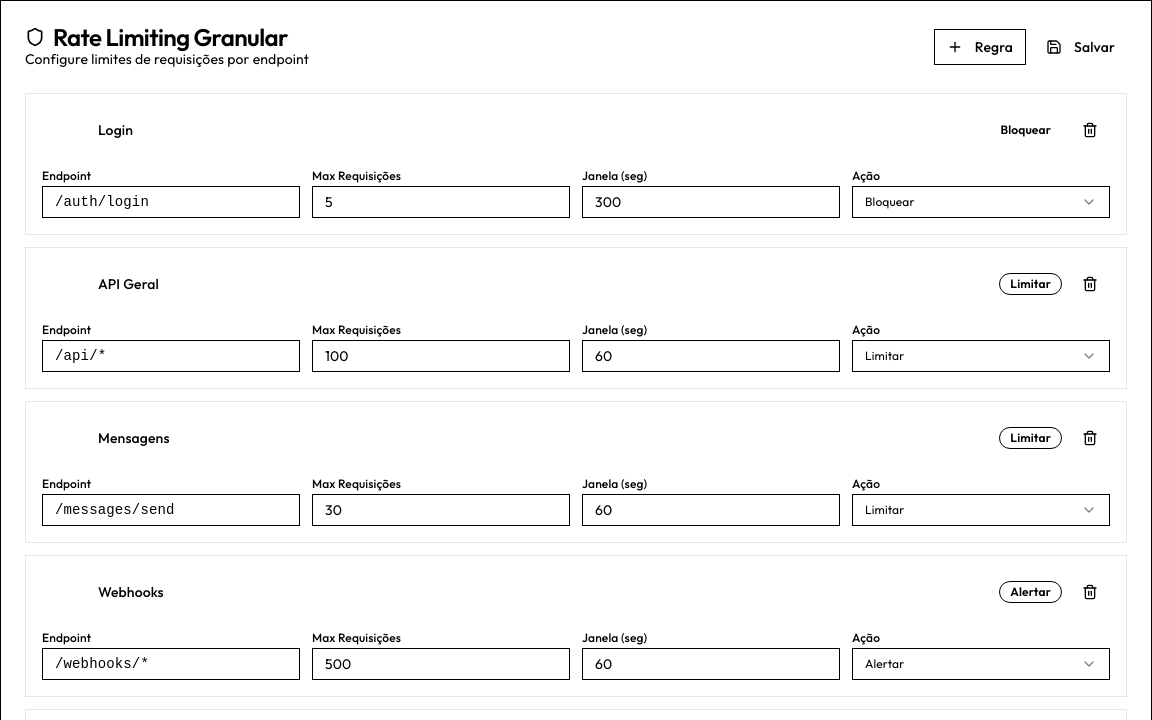
Test: RateLimitConfigPanel › Edge cases › handles NaN input for window_seconds
Expected: the 1st field showing "Login" is shown, [98,116,301,144]
Clear the 2nd number field at [711, 202], box [582,186,840,218]
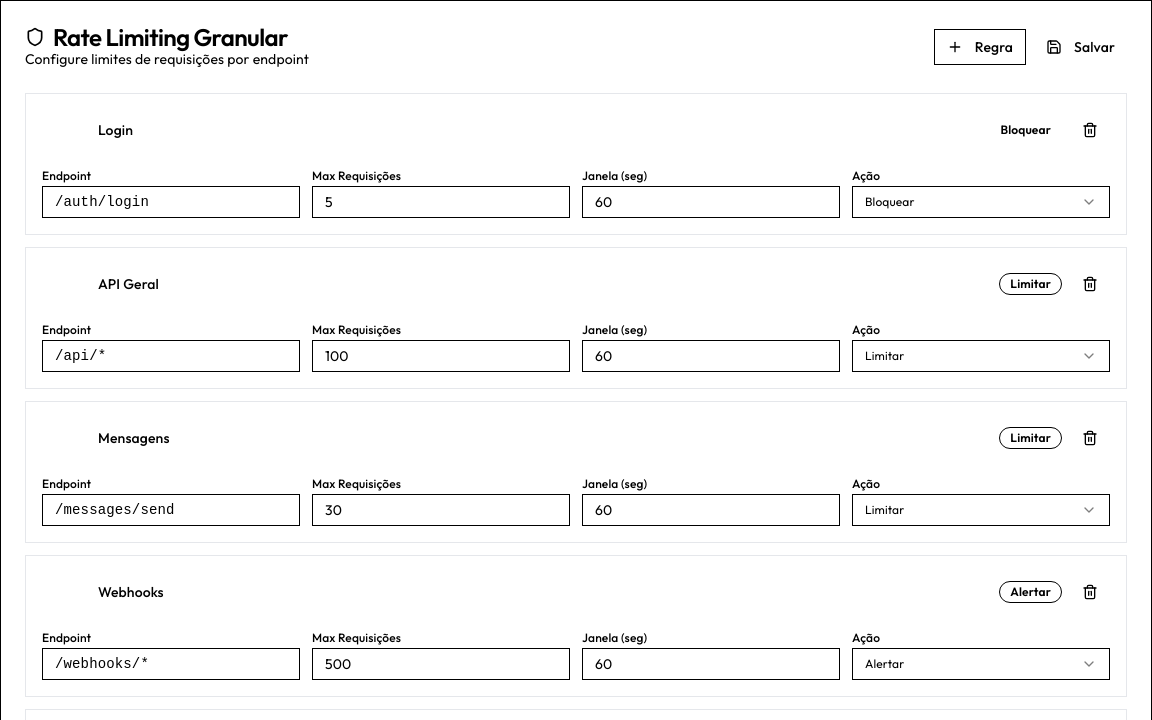
Result: the 2nd number field showing "60" is shown at [582,186,840,218]
